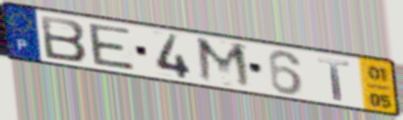4: (153, 31, 194, 81)
6: (266, 48, 305, 97)
B: (37, 13, 89, 63)
E: (85, 21, 137, 72)
M: (193, 35, 256, 92)
T: (316, 56, 353, 103)
